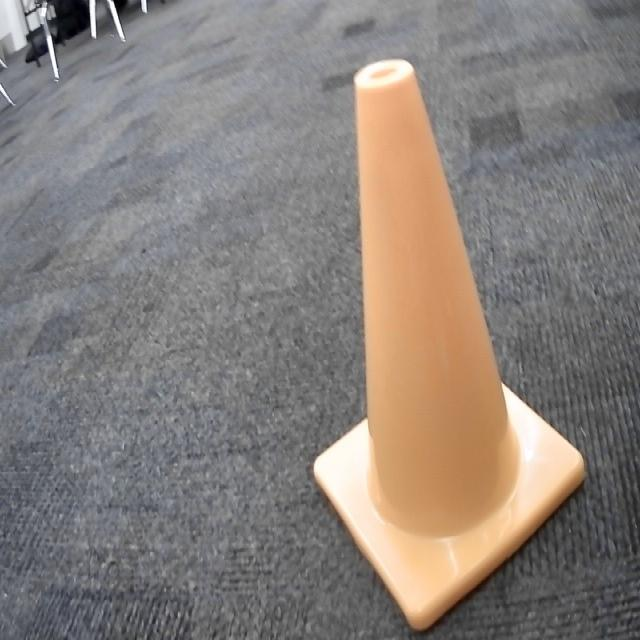cone: (306, 47, 590, 640)
